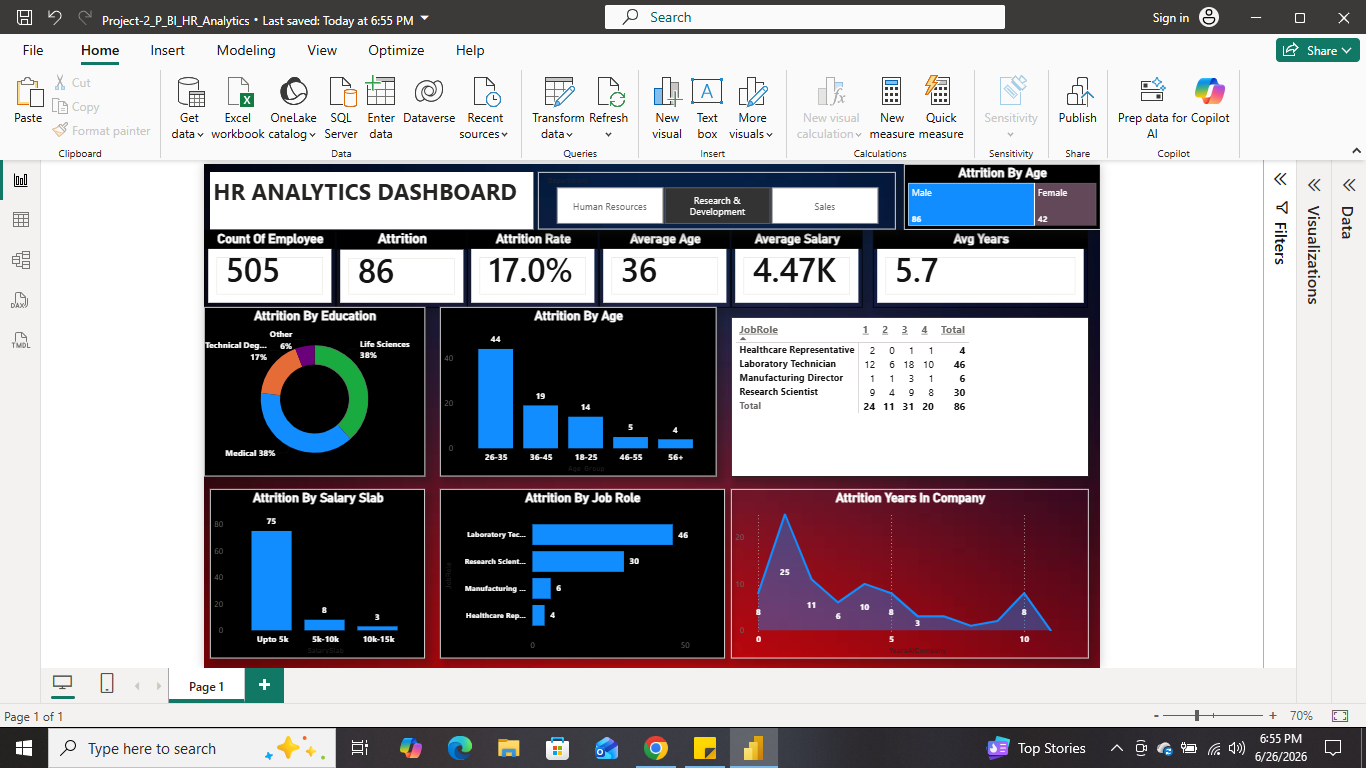

What the dashboard file says about the page in this screenshot:
{"tool":"powerbi","page":{"name":"Page 1","canvas":[1280,720],"ordinal":0},"visuals":[{"type":"cardVisual","title":"Count Of Employee","fields":{"Data":["CountNonNull(HR_Analytics (2).EmployeeCount)"]},"box":[0,94.1,188.1,110.9],"z":0},{"type":"cardVisual","title":"Attrition","fields":{"Data":["Sum(HR_Analytics (2).AttritionCount)"]},"box":[188.1,94.1,188.1,110.9],"z":1},{"type":"cardVisual","title":"Attrition Rate","fields":{"Data":["HR_Analytics (2).Attrition%"]},"box":[376.3,94.1,188.1,110.9],"z":2},{"type":"cardVisual","title":"Average Age ","fields":{"Data":["Avg(HR_Analytics (2).Age)"]},"box":[564.4,94.1,188.1,110.9],"z":3},{"type":"cardVisual","title":"Average Salary","fields":{"Data":["Avg(HR_Analytics (2).MonthlyIncome)"]},"box":[752.5,94.1,188.1,110.9],"z":4},{"type":"cardVisual","title":"Avg Years","fields":{"Data":["Avg(HR_Analytics (2).YearsAtCompany)"]},"box":[955.8,94.1,307.4,110.9],"z":5},{"type":"donutChart","title":"Attrition By Education","fields":{"Category":["HR_Analytics (2).EducationField"],"Y":["Sum(HR_Analytics (2).AttritionCount)"]},"box":[0,204.9,315.8,241.9],"z":6},{"type":"clusteredColumnChart","title":"Attrition By Age","fields":{"Category":["HR_Analytics (2).Age_Group"],"Y":["Sum(HR_Analytics (2).AttritionCount)"]},"box":[337.6,204.9,394.8,241.9],"z":7},{"type":"pivotTable","fields":{"Rows":["HR_Analytics (2).JobRole"],"Columns":["HR_Analytics (2).JobSatisfaction"],"Values":["Sum(HR_Analytics (2).AttritionCount)"]},"box":[752.5,218.4,510.7,228.5],"z":8},{"type":"clusteredColumnChart","title":"Attrition By Salary Slab","fields":{"Y":["Sum(HR_Analytics (2).AttritionCount)"],"Category":["HR_Analytics (2).SalarySlab"]},"box":[8.4,463.6,307.4,241.9],"z":9},{"type":"clusteredBarChart","title":"Attrition By Job Role","fields":{"Category":["HR_Analytics (2).JobRole"],"Y":["Sum(HR_Analytics (2).AttritionCount)"]},"box":[337.6,463.6,406.5,241.9],"z":10},{"type":"stackedAreaChart","title":"Attrition Years In Company","fields":{"Category":["HR_Analytics (2).YearsAtCompany"],"Y":["Sum(HR_Analytics (2).AttritionCount)"]},"box":[752.5,463.6,510.7,241.9],"z":11},{"type":"treemap","title":"Attrition By Age","fields":{"Values":["Sum(HR_Analytics (2).AttritionCount)"],"Group":["HR_Analytics (2).Gender"]},"box":[999.5,0,280.5,94.1],"z":12},{"type":"slicer","fields":{"Values":["HR_Analytics (2).Department"]},"box":[477.1,11.8,510.7,82.3],"z":13},{"type":"textbox","box":[8.4,11.8,461.9,82.3],"z":14}]}

Visuals, with their boxes on the page's 1280x720 design canvas (x1, y1, x2, y2). These are canvas units, not pixel positions in the 1366x768 screenshot, which may show the page scaled, cropped or inside an application window:
"Count Of Employee" cardVisual: 0/94/188/205
"Attrition" cardVisual: 188/94/376/205
"Attrition Rate" cardVisual: 376/94/564/205
"Average Age " cardVisual: 564/94/752/205
"Average Salary" cardVisual: 752/94/941/205
"Avg Years" cardVisual: 956/94/1263/205
"Attrition By Education" donutChart: 0/205/316/447
"Attrition By Age" clusteredColumnChart: 338/205/732/447
pivotTable - HR_Analytics (2).JobRole x HR_Analytics (2).JobSatisfaction: 752/218/1263/447
"Attrition By Salary Slab" clusteredColumnChart: 8/464/316/706
"Attrition By Job Role" clusteredBarChart: 338/464/744/706
"Attrition Years In Company" stackedAreaChart: 752/464/1263/706
"Attrition By Age" treemap: 1000/0/1280/94
slicer - HR_Analytics (2).Department: 477/12/988/94
textbox: 8/12/470/94
